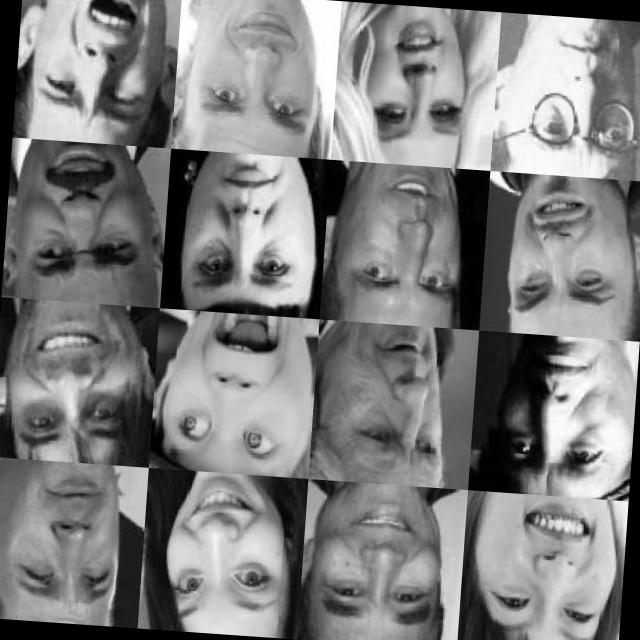angry: (323, 330, 448, 474), (22, 146, 142, 282)
fear: (323, 172, 458, 314), (165, 316, 287, 454), (27, 0, 152, 128)
happy: (184, 0, 316, 136), (480, 509, 615, 640), (5, 312, 136, 446), (160, 483, 285, 622), (319, 502, 444, 630)
neutral: (348, 15, 470, 150), (184, 153, 306, 286), (487, 342, 607, 476), (516, 24, 631, 160)
sad: (0, 463, 122, 602), (494, 183, 618, 316)
